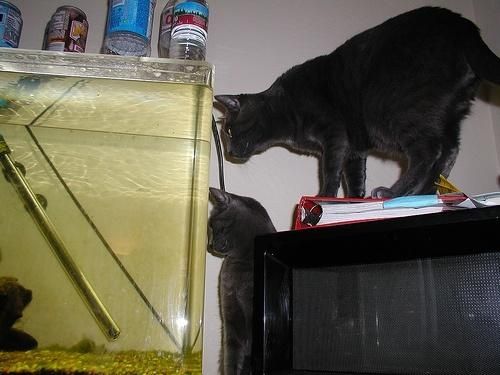bottle: (106, 1, 157, 56), (170, 1, 210, 61)
cat: (213, 7, 500, 200), (207, 185, 280, 374)
tvmonitor: (255, 206, 500, 375)
